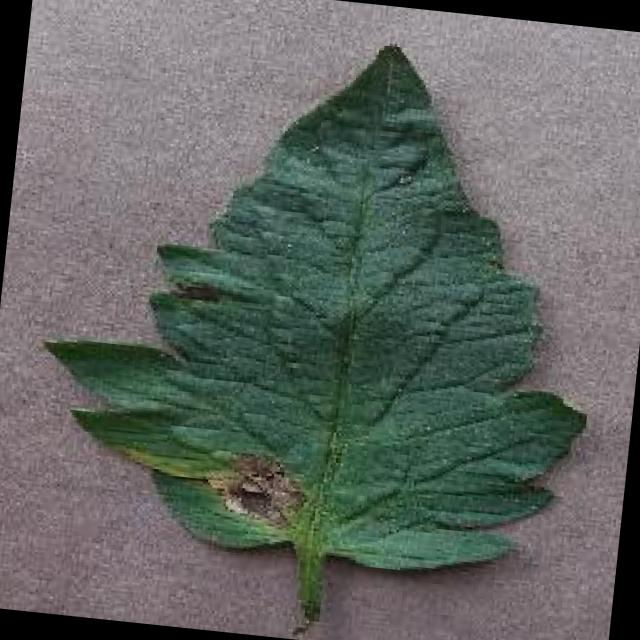Tomato_Early_Blight: (45, 363, 351, 582)
